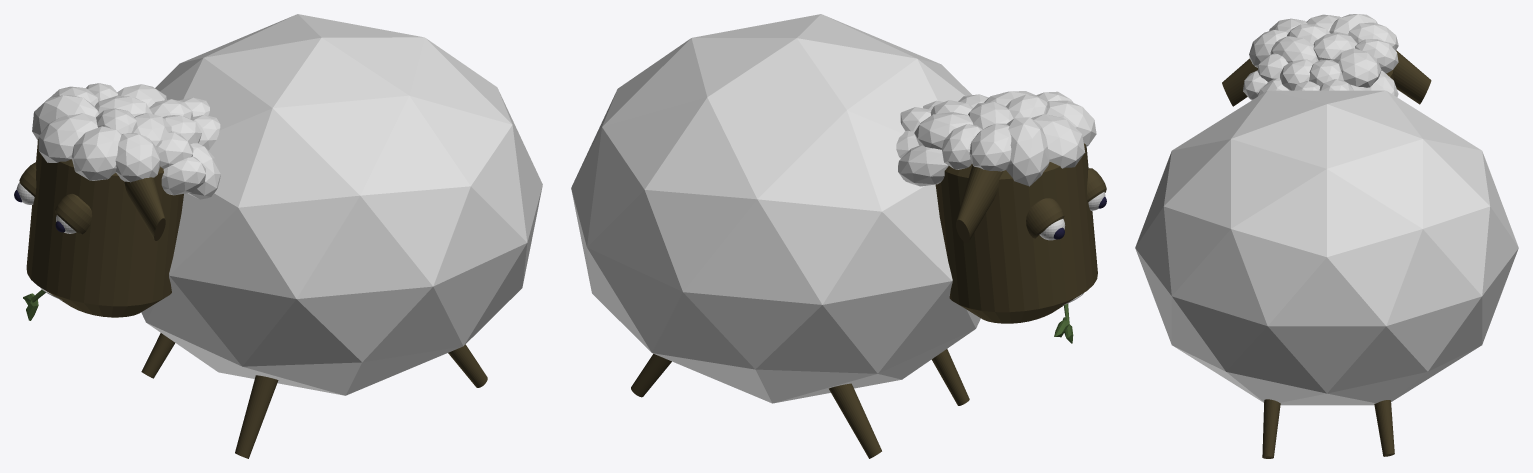
Rendered from mouton.glb.
3 views of the same model, side by side, from view 1: azimuth 30°, elevation 25°; view 2: azimuth 150°, elevation 25°; view 3: azimuth 270°, elevation 25° (orthographic). The views are drawn at different scales.
Parts seen in each view (by area): view 1: Icosphere, Cylinder, Icosphere.005, Icosphere.004, Icosphere.001, Cylinder.005, Cylinder.002, Icosphere.003, Icosphere.014, Torus.001, Icosphere.013, Icosphere.006 (+9 smaller); view 2: Icosphere, Cylinder, Icosphere.003, Cylinder.001, Icosphere.004, Icosphere.002, Icosphere.017, Cylinder.004, Icosphere.011, Icosphere.007, Icosphere.005, Torus (+5 smaller); view 3: Icosphere, Icosphere.011, Cylinder.001, Icosphere.016, Cylinder.006, Icosphere.009, Cylinder.007, Icosphere.007, Icosphere.002, Cylinder.002, Icosphere.010, Icosphere.001 (+6 smaller).
Boxes of the visible parts, box(x1,y1,x2,y2) form: Icosphere: box(141, 14, 542, 395); Cylinder: box(26, 139, 183, 317); Icosphere.005: box(71, 126, 121, 180); Icosphere.004: box(38, 113, 97, 162); Icosphere.001: box(115, 133, 160, 182); Cylinder.005: box(235, 375, 278, 458); Cylinder.002: box(124, 177, 165, 240); Icosphere.003: box(32, 95, 99, 140); Icosphere.014: box(161, 156, 205, 195); Torus.001: box(55, 193, 92, 234); Icosphere.013: box(187, 143, 220, 199); Icosphere.006: box(157, 131, 193, 168); Icosphere: box(571, 14, 980, 403); Cylinder: box(935, 143, 1097, 323); Icosphere.003: box(1006, 117, 1049, 186); Cylinder.001: box(956, 165, 1003, 242); Icosphere.004: box(1031, 114, 1085, 168); Icosphere.002: box(969, 123, 1011, 171); Icosphere.017: box(898, 145, 948, 186); Cylinder.004: box(829, 383, 881, 458); Icosphere.011: box(914, 112, 973, 149); Icosphere.007: box(942, 124, 982, 169); Icosphere.005: box(1045, 100, 1096, 146); Torus: box(1026, 198, 1064, 238); Icosphere: box(1135, 90, 1518, 405); Icosphere.011: box(1333, 48, 1381, 87); Cylinder.001: box(1394, 50, 1431, 104); Icosphere.016: box(1270, 36, 1318, 63); Cylinder.006: box(1262, 399, 1280, 458); Icosphere.009: box(1313, 32, 1357, 60); Cylinder.007: box(1374, 400, 1394, 456); Icosphere.007: box(1355, 39, 1398, 73); Icosphere.002: box(1348, 22, 1398, 50); Cylinder.002: box(1222, 58, 1257, 106); Icosphere.010: box(1280, 59, 1315, 90); Icosphere.001: box(1249, 30, 1287, 67).
Bounding box in the file's own units: 0.7643 × 0.5601 × 0.6273.
